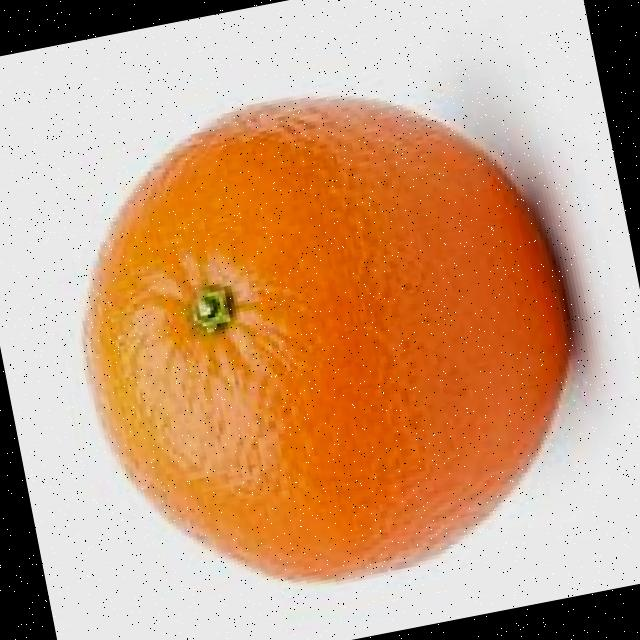orange: (34, 51, 611, 628)
